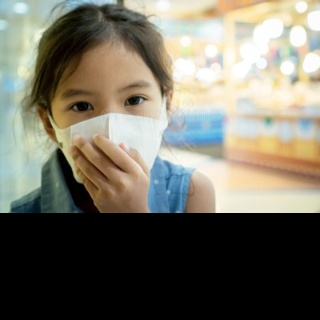with_mask: (52, 79, 167, 188)
